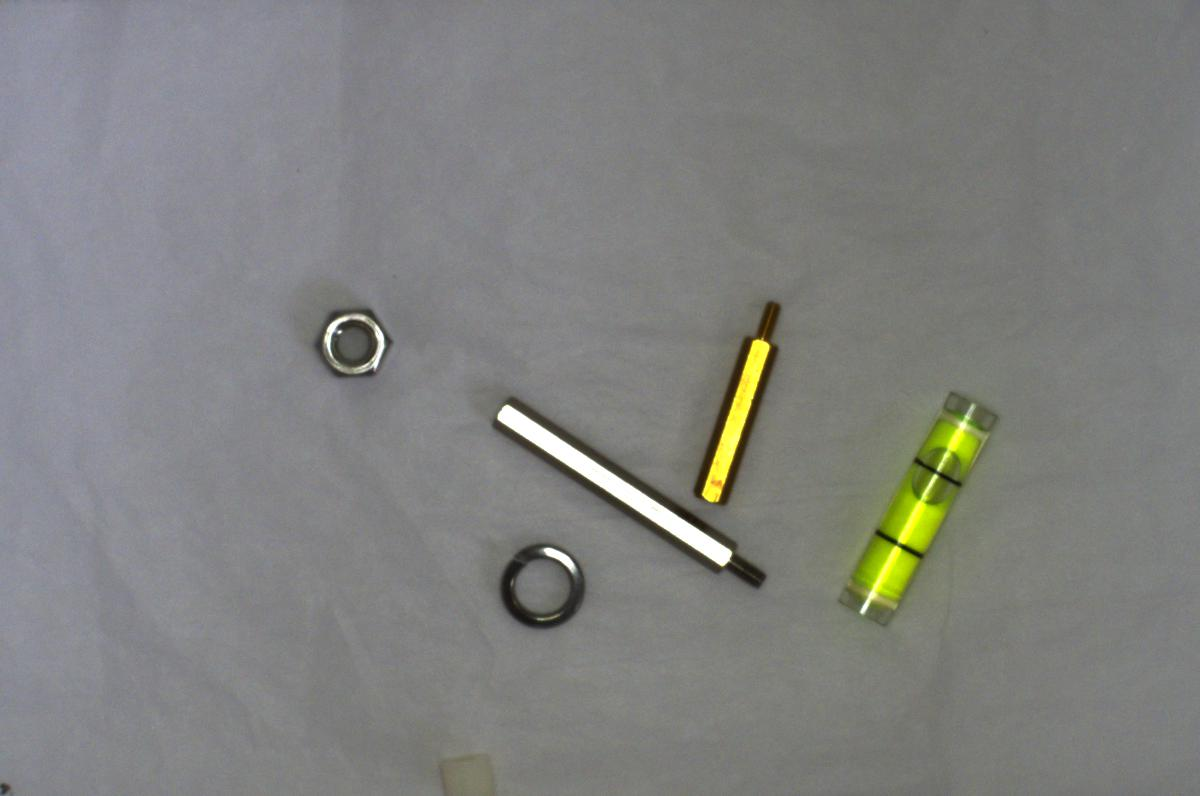Hexagon nut: (307, 293, 395, 385)
Hexagon pillar: (681, 294, 782, 507)
Hexagonal steel column: (485, 398, 775, 592)
Horizontal bubble: (828, 373, 999, 623)
Plastic cushion pillar: (426, 739, 516, 795)
Spring washer: (492, 533, 594, 639)
